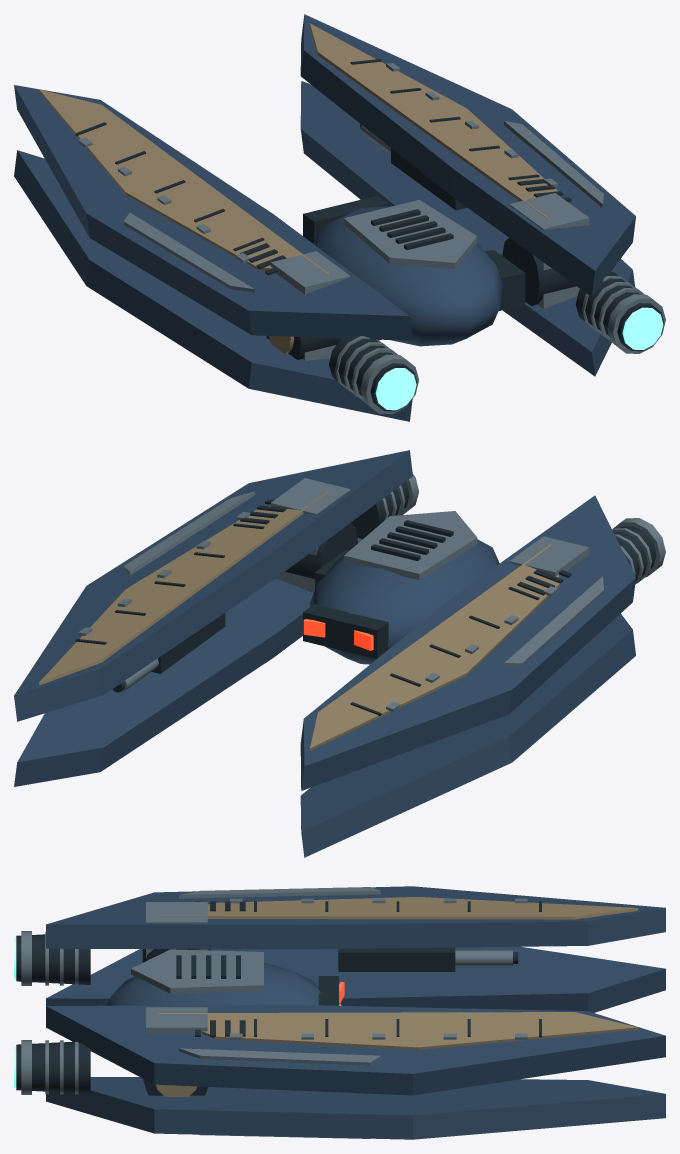
File: vulture.glb
3 renders of one model, top to bottom at view 1: azimuth 30°, elevation 25°; view 2: azimuth 150°, elevation 25°; view 3: azimuth 270°, elevation 25°, orthographic. The views are drawn at different scales.
Visible parts, largest first — view 1: vulture-material-0, vulture-material-4, vulture-material-2, vulture-material-1, vulture-material-5; view 2: vulture-material-0, vulture-material-4, vulture-material-2, vulture-material-1, vulture-material-3; view 3: vulture-material-0, vulture-material-4, vulture-material-2, vulture-material-1.
Part boxes in pixels (x1,y1,x2,y2): vulture-material-0: (14,14,635,421); vulture-material-4: (39,23,559,353); vulture-material-2: (78,63,665,414); vulture-material-1: (75,59,664,411); vulture-material-5: (375,307,663,410); vulture-material-0: (14,450,635,857); vulture-material-4: (39,490,560,750); vulture-material-2: (78,474,665,711); vulture-material-1: (75,482,656,715); vulture-material-3: (303,619,373,650); vulture-material-0: (46,886,665,1139); vulture-material-4: (156,897,638,1096); vulture-material-2: (21,887,527,1138); vulture-material-1: (16,901,541,1095).
Bounding box in the file's own units: 4.74 × 1.15 × 6.96.
